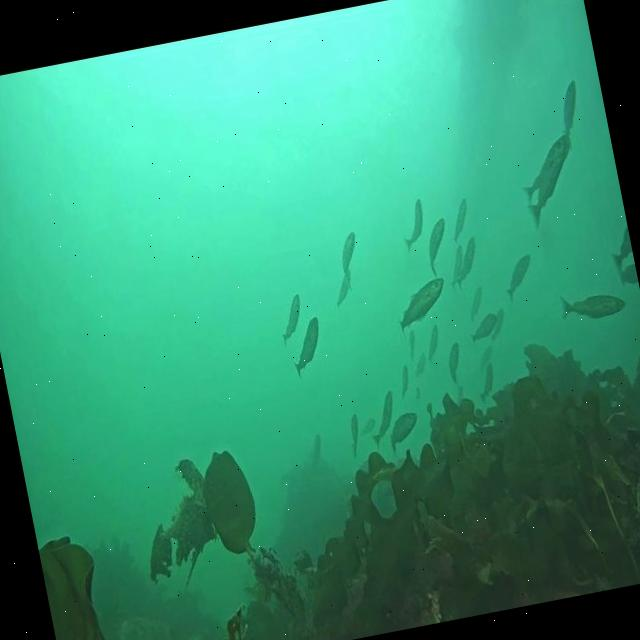fish: (517, 138, 583, 225), (390, 278, 452, 334), (286, 318, 332, 386), (558, 286, 628, 326), (420, 217, 458, 277), (366, 389, 402, 447), (398, 195, 431, 248), (502, 250, 539, 296), (276, 291, 308, 343), (384, 410, 421, 454), (556, 78, 586, 130), (336, 232, 366, 284), (606, 222, 636, 270), (447, 202, 476, 244), (456, 238, 484, 280), (330, 272, 359, 308), (473, 362, 498, 402), (442, 345, 466, 383), (466, 282, 488, 320), (466, 313, 499, 338), (444, 250, 465, 282), (492, 310, 509, 348), (395, 365, 414, 399), (345, 418, 364, 451), (424, 327, 444, 357), (616, 266, 640, 290), (312, 434, 328, 467), (412, 354, 429, 381), (407, 330, 420, 358), (361, 422, 376, 442), (479, 350, 491, 364)
